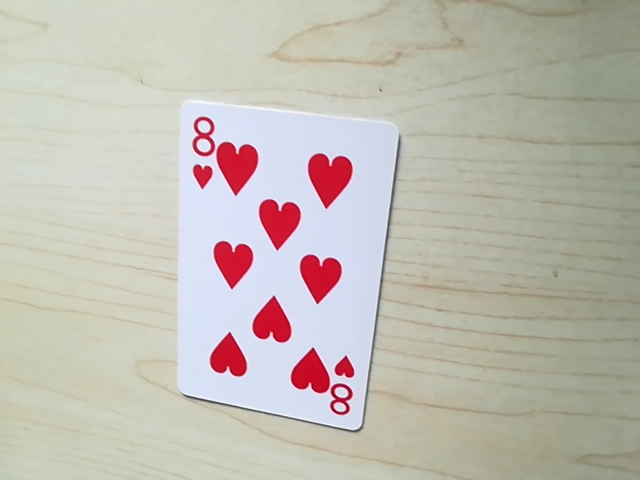hx 8: (318, 372, 362, 425), (186, 105, 222, 147)
